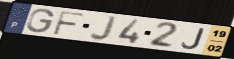2: (148, 22, 180, 48)
4: (116, 18, 143, 45)
F: (51, 10, 87, 37)
G: (26, 8, 57, 34)
J: (89, 15, 120, 42), (180, 27, 206, 50)
